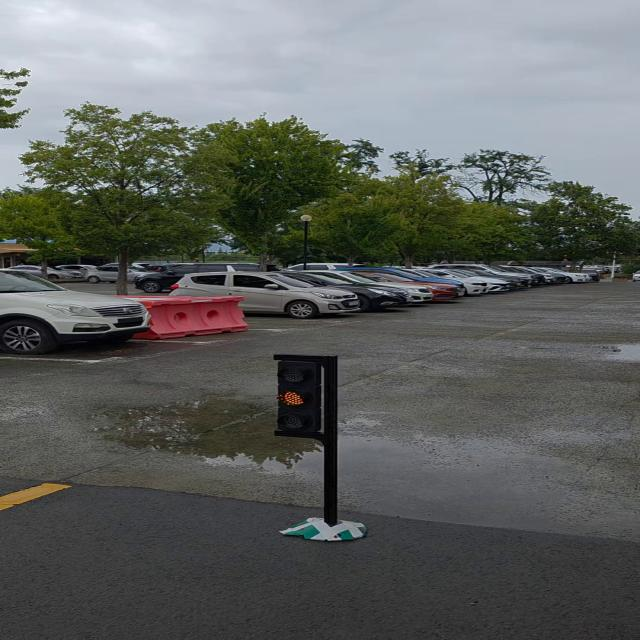yellow: (274, 354, 332, 438)
